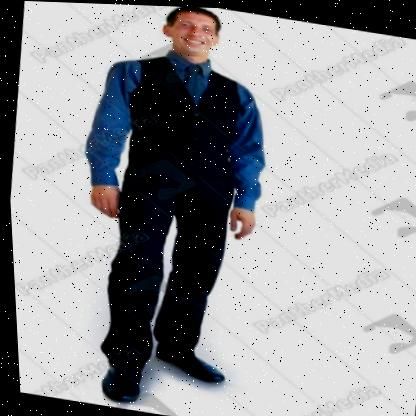person: (64, 2, 303, 414)
